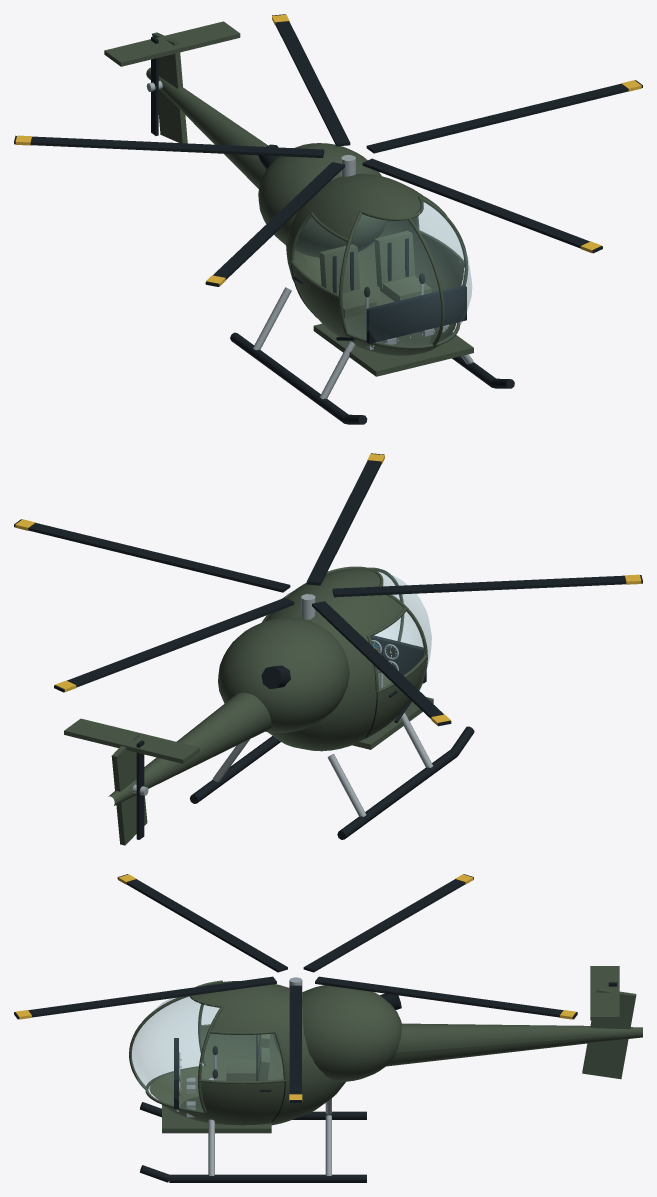
File: source.glb
The picture shows the model from 3 angles, top to bottom: view 1: azimuth 30°, elevation 25°; view 2: azimuth 150°, elevation 25°; view 3: azimuth 270°, elevation 25°; orthographic projection. The views are drawn at different scales.
Visible parts, largest first — view 1: cabin-canopy-windows, rotor-airfoil (×5), cabin-panels, engine-housing, cabin-interior, instrument-panel, floor, tail-boom, seat-back (×2), t-tail, tail-fin, seat-cushion (×2) (+2 smaller); view 2: rotor-airfoil (×5), engine-housing, cabin-panels, tail-boom, cabin-canopy-windows, skid (×2), t-tail, tail-fin, instrument-panel, floor, tail-blade-0, exhaust (+1 smaller); view 3: cabin-canopy-windows, rotor-airfoil (×5), cabin-panels, engine-housing, tail-boom, cabin-interior, tail-fin, skid (×2), t-tail, floor, seat-cushion.
Part boxes in pixels (box(x1,y1,x2,y2)): cabin-canopy-windows: box(293, 202, 471, 345); rotor-airfoil (×5): box(14, 14, 642, 286); cabin-panels: box(286, 173, 439, 355); engine-housing: box(258, 143, 387, 257); cabin-interior: box(293, 217, 464, 344); instrument-panel: box(366, 285, 466, 343); floor: box(313, 313, 473, 376); tail-boom: box(146, 67, 267, 188); seat-back (×2): box(319, 230, 415, 294); t-tail: box(104, 21, 240, 66); tail-fin: box(152, 32, 187, 143); seat-cushion (×2): box(338, 276, 431, 318); rotor-airfoil (×5): box(14, 453, 642, 726); engine-housing: box(218, 617, 349, 732); cabin-panels: box(265, 568, 425, 751); tail-boom: box(108, 692, 271, 805); cabin-canopy-windows: box(371, 571, 431, 688); skid (×2): box(189, 736, 458, 839); t-tail: box(64, 718, 199, 763); tail-fin: box(111, 733, 147, 845); instrument-panel: box(370, 635, 426, 683); floor: box(352, 697, 433, 749); tail-blade-0: box(136, 740, 144, 839); exhaust: box(261, 665, 290, 688); cabin-canopy-windows: box(131, 996, 282, 1110); rotor-airfoil (×5): box(14, 874, 577, 1102); cabin-panels: box(162, 981, 345, 1125); engine-housing: box(273, 985, 402, 1081); tail-boom: box(386, 1023, 642, 1066); cabin-interior: box(149, 1026, 283, 1106); tail-fin: box(582, 988, 636, 1079); skid (×2): box(169, 1111, 366, 1182); t-tail: box(590, 966, 619, 1020); floor: box(162, 1096, 271, 1133); seat-cushion: box(226, 1059, 256, 1081).
Bounding box in the file's own units: 7.32 × 2.64 × 8.59.
